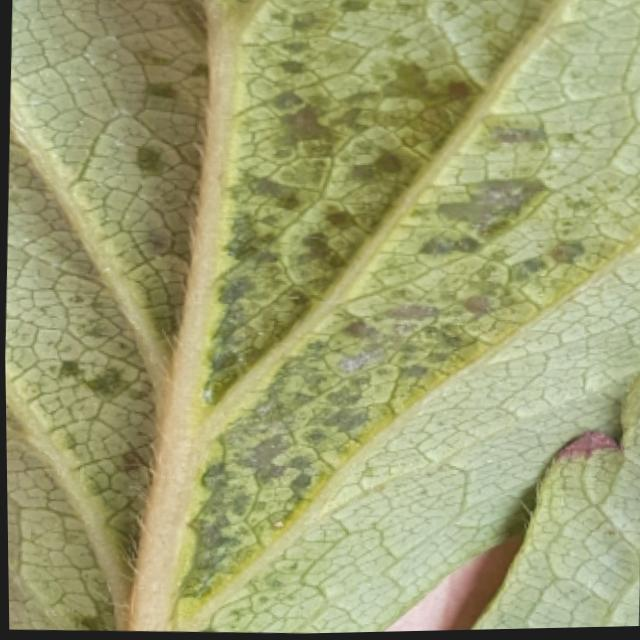Angular Leafspot: (4, 0, 640, 634)
